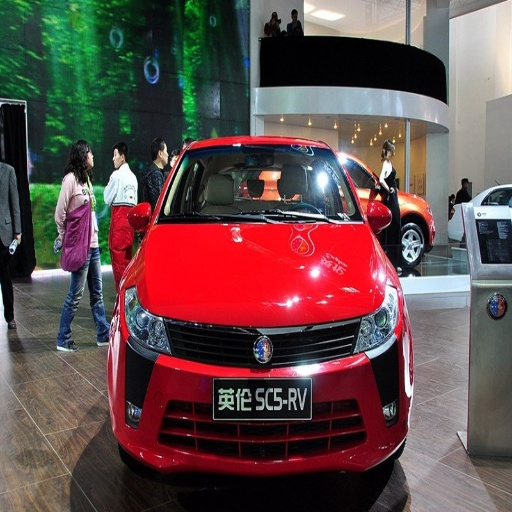front_bumper: (115, 315, 407, 476)
front_right_light: (121, 286, 171, 354)
hood: (134, 222, 397, 326)
